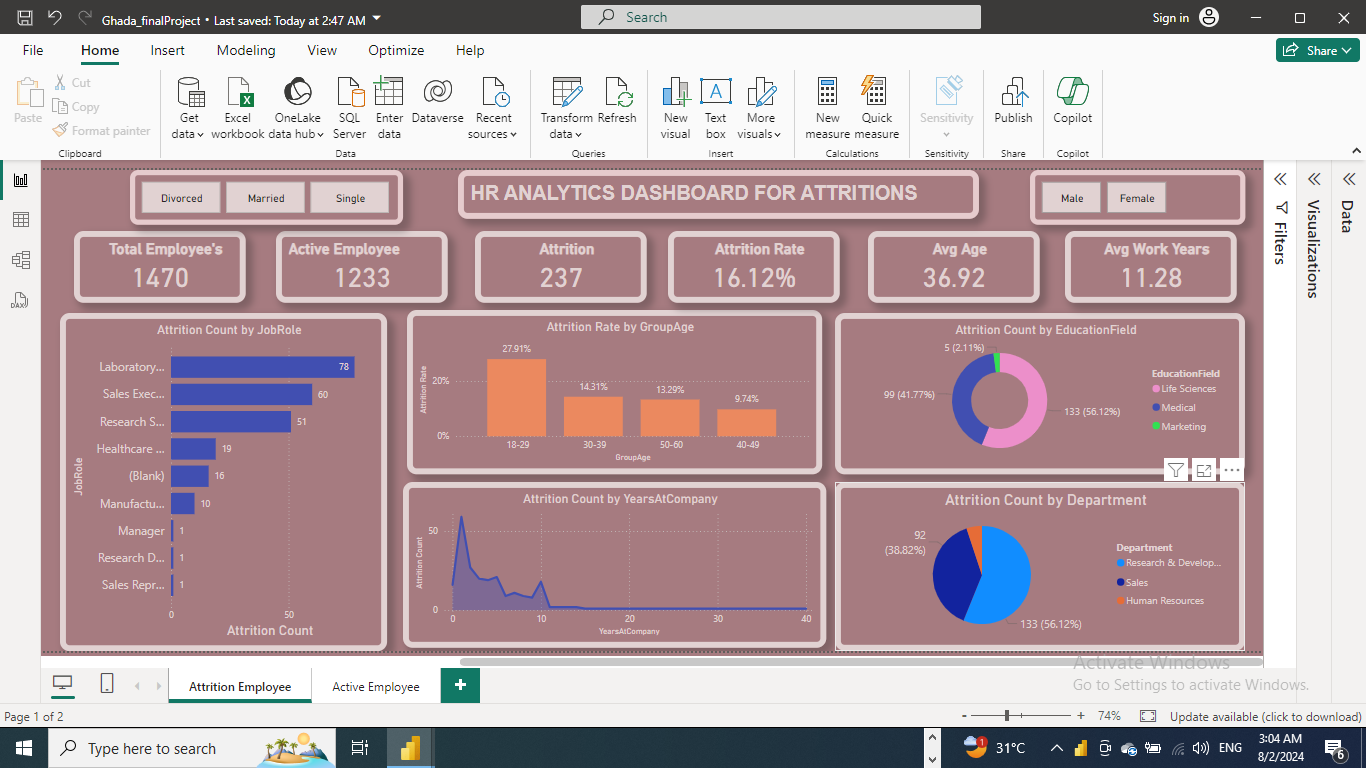

The dashboard page shown, as its layout file describes it:
{"tool":"powerbi","page":{"name":"Attrition Employee","canvas":[2500,650],"ordinal":0},"visuals":[{"type":"card","title":"Total Employee''s","fields":{"Values":["DaxMeasure.Total Employee's"]},"box":[893.2,82.4,232.4,97.3],"z":0},{"type":"card","title":"Attrition","fields":{"Values":["DaxMeasure.Attrition Count"]},"box":[1435.1,82.4,232.4,97.3],"z":1000},{"type":"card","title":"Active Employee","fields":{"Values":["DaxMeasure.Active Eemployee"]},"box":[1166.2,82.4,232.4,97.3],"z":2000},{"type":"card","title":"Avg Age","fields":{"Values":["DaxMeasure.Avg Age"]},"box":[1966.2,82.4,232.4,97.3],"z":3000},{"type":"advancedSlicerVisual","title":"Gender","fields":{"Values":["DimEmployee.Gender"]},"box":[2185.1,0,290.5,74.3],"z":4000},{"type":"advancedSlicerVisual","fields":{"Values":["DimEmployee.MaritalStatus"]},"box":[968.9,0,368.9,74.3],"z":5000},{"type":"donutChart","fields":{"Category":["DimEducation.EducationField"],"Y":["DaxMeasure.Attrition Count"]},"box":[1921.6,193.2,554.1,217.6],"z":6000},{"type":"columnChart","fields":{"Category":["FactEmployee.GroupAge"],"Y":["DaxMeasure.Attrition Rate"]},"box":[1343.2,189.2,560.8,221.6],"z":7000},{"type":"clusteredBarChart","fields":{"Category":["DimRole.JobRole"],"Y":["DaxMeasure.Attrition Count"]},"box":[874.3,193.2,441.9,456.8],"z":8000},{"type":"areaChart","fields":{"Category":["FactEmployee.YearsAtCompany"],"Y":["DaxMeasure.Attrition Count"]},"box":[1337.8,421.6,571.6,224.3],"z":9000},{"type":"pieChart","fields":{"Y":["DaxMeasure.Attrition Count"],"Category":["DimEmployee.Department"]},"box":[1921.6,421.6,554.1,228.4],"z":10000},{"type":"card","title":"Avg Work Years","fields":{"Values":["DaxMeasure.Avg Work Years"]},"box":[2232.4,82.4,232.4,97.3],"z":11000},{"type":"textbox","box":[1412.2,0,704.1,66.2],"z":12000},{"type":"card","title":"Attrition Rate","fields":{"Values":["DaxMeasure.Attrition Rate"]},"box":[1695.9,82.4,232.4,97.3],"z":13000}]}

Visuals, with their boxes on the page's 2500x650 design canvas (x1, y1, x2, y2). These are canvas units, not pixel positions in the 1366x768 screenshot, which may show the page scaled, cropped or inside an application window:
"Total Employee''s" card: box(893, 82, 1126, 180)
"Attrition" card: box(1435, 82, 1668, 180)
"Active Employee" card: box(1166, 82, 1399, 180)
"Avg Age" card: box(1966, 82, 2199, 180)
"Gender" advancedSlicerVisual: box(2185, 0, 2476, 74)
advancedSlicerVisual - DimEmployee.MaritalStatus: box(969, 0, 1338, 74)
donutChart - DimEducation.EducationField x DaxMeasure.Attrition Count: box(1922, 193, 2476, 411)
columnChart - FactEmployee.GroupAge x DaxMeasure.Attrition Rate: box(1343, 189, 1904, 411)
clusteredBarChart - DimRole.JobRole x DaxMeasure.Attrition Count: box(874, 193, 1316, 650)
areaChart - FactEmployee.YearsAtCompany x DaxMeasure.Attrition Count: box(1338, 422, 1909, 646)
pieChart - DaxMeasure.Attrition Count x DimEmployee.Department: box(1922, 422, 2476, 650)
"Avg Work Years" card: box(2232, 82, 2465, 180)
textbox: box(1412, 0, 2116, 66)
"Attrition Rate" card: box(1696, 82, 1928, 180)
